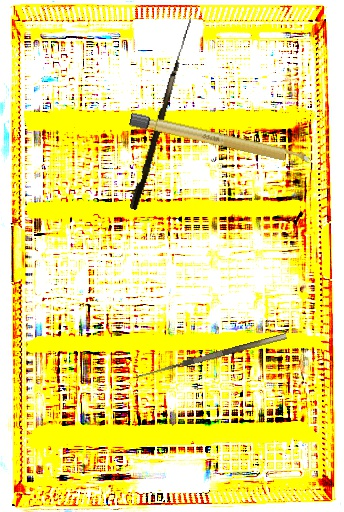Hook Surgical: (129, 15, 192, 212), (134, 333, 290, 387)
Scalpel Handle: (128, 112, 314, 168)
